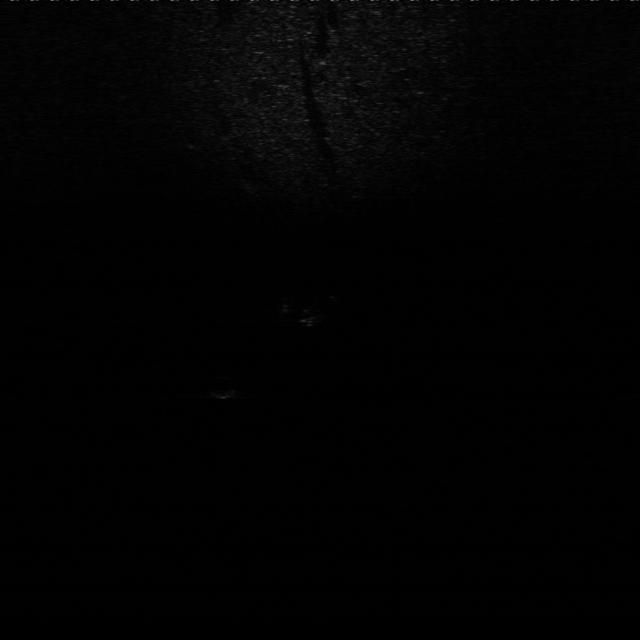ball: (208, 374, 240, 402)
human body: (274, 294, 334, 330)
